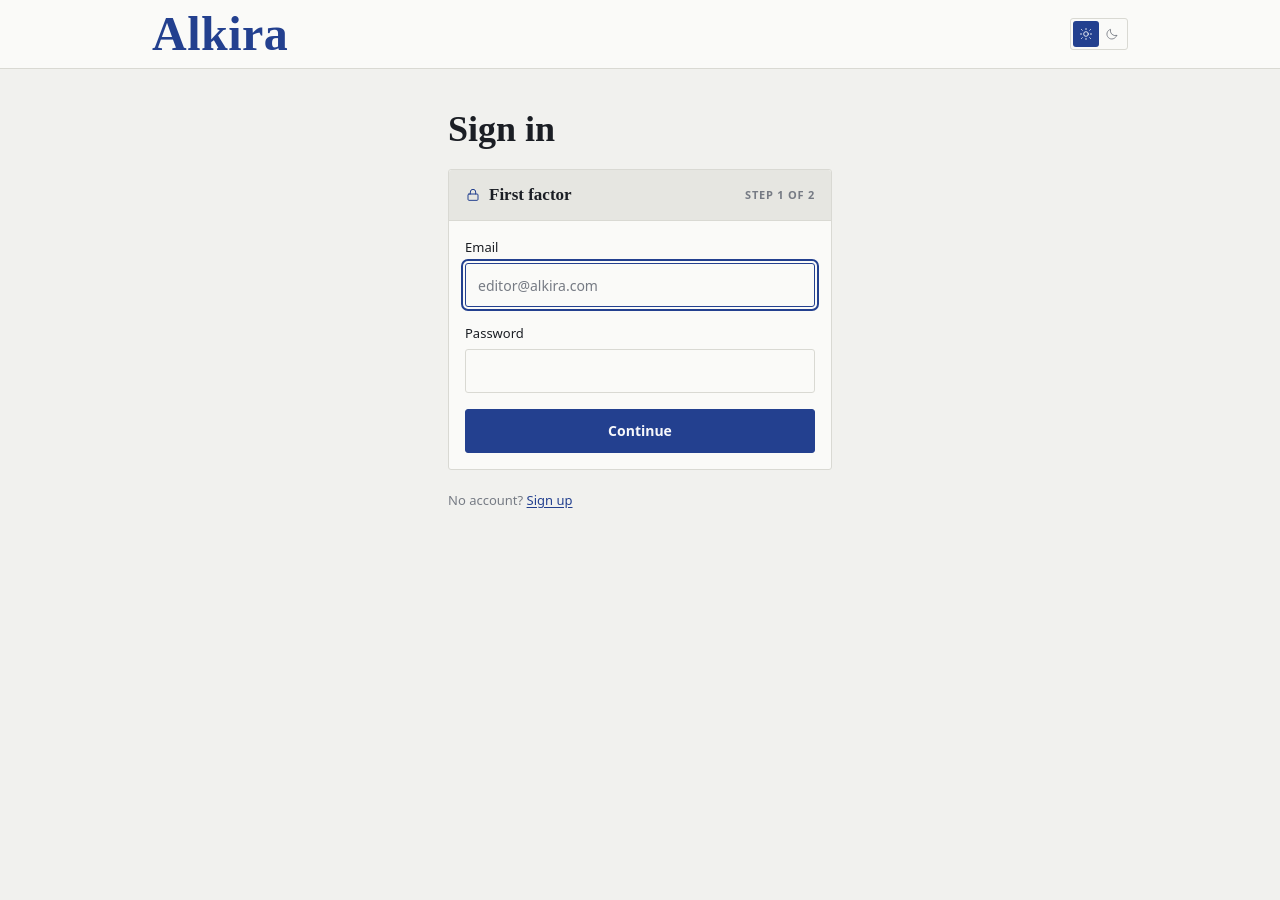
Test: sign up › confirms validation passed without claiming an account was created
Click the link "Sign up". click: (550, 500)
box: [527,491,572,509]
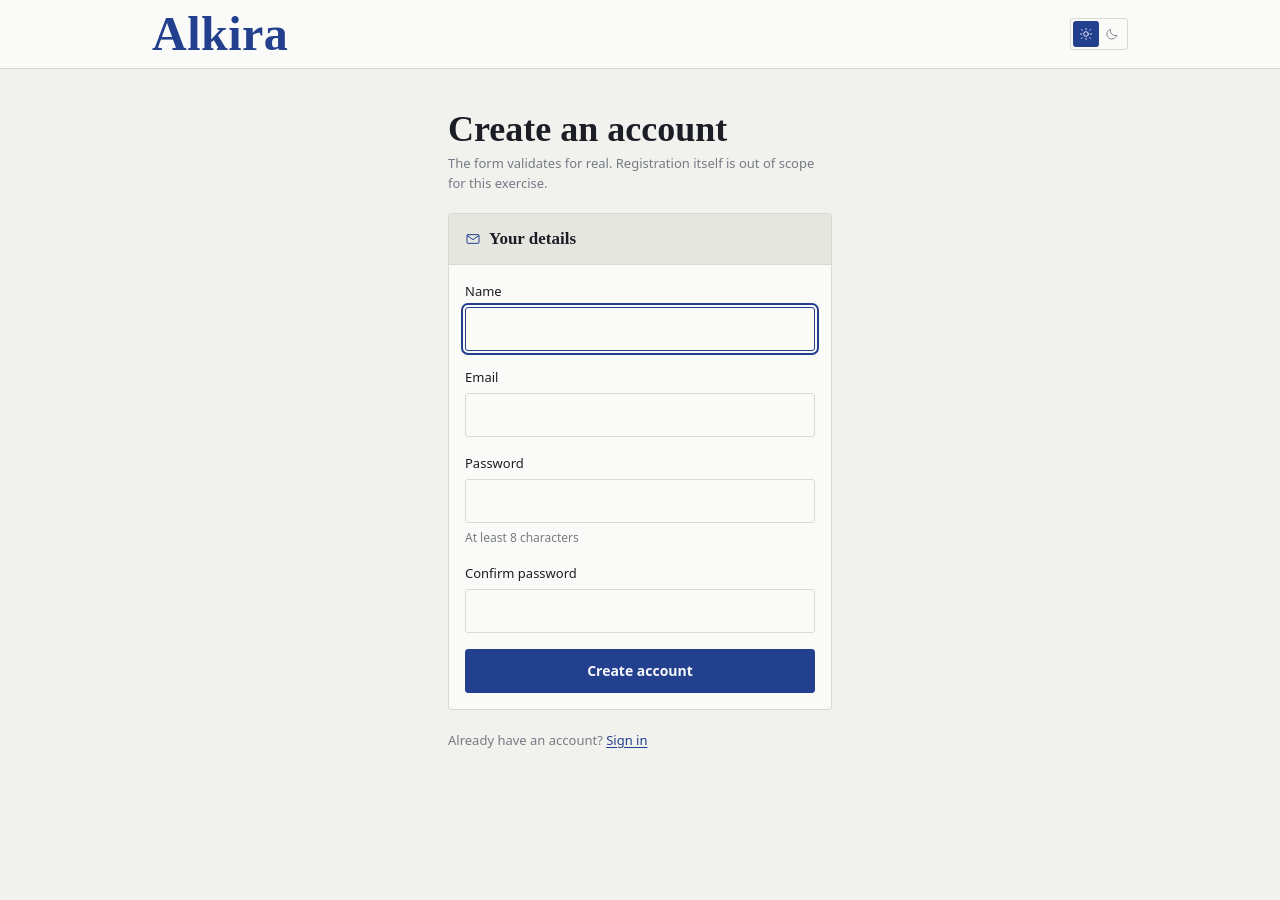
Now the heading "Create an account" is shown, box [448,109,727,149]
Type "Ada Lovelace" into the field labelled "Name". click: (640, 329)
box: [465,307,815,351]
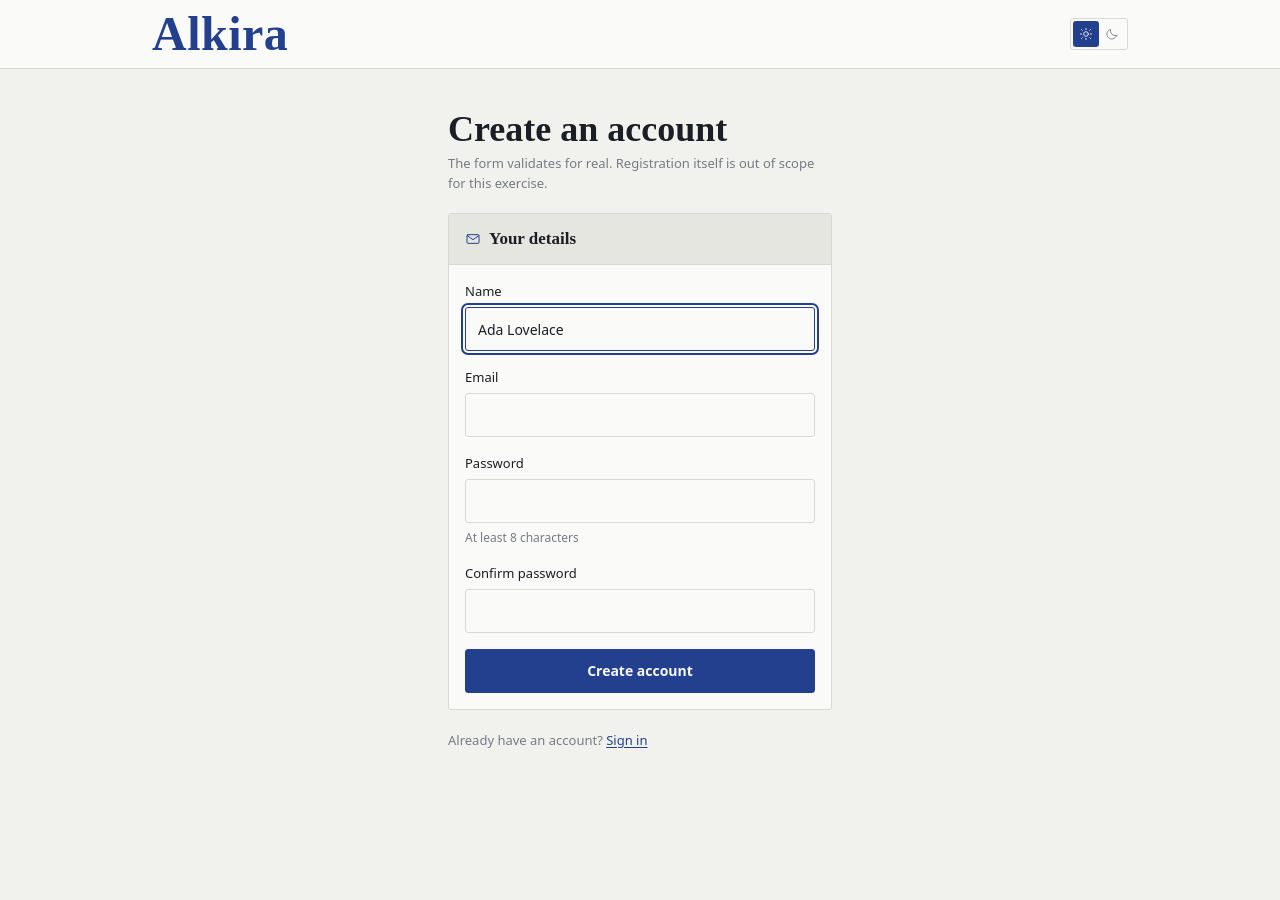
Type "ada@alkira.com" into the field labelled "Email". click: (640, 415)
box: [465,393,815,437]
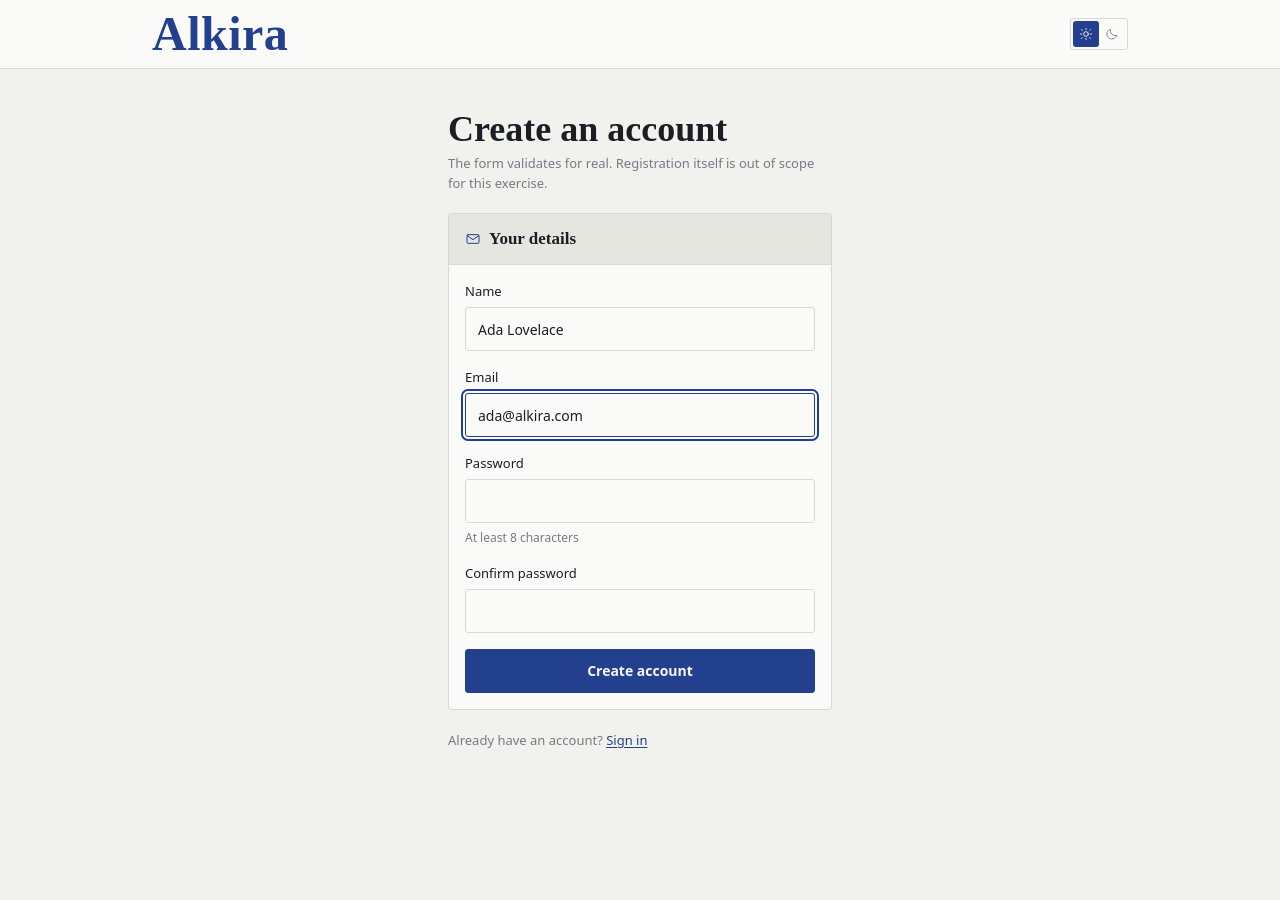
Type "Password123!" into the password field labelled "Password". click: (640, 501)
box: [465,479,815,523]
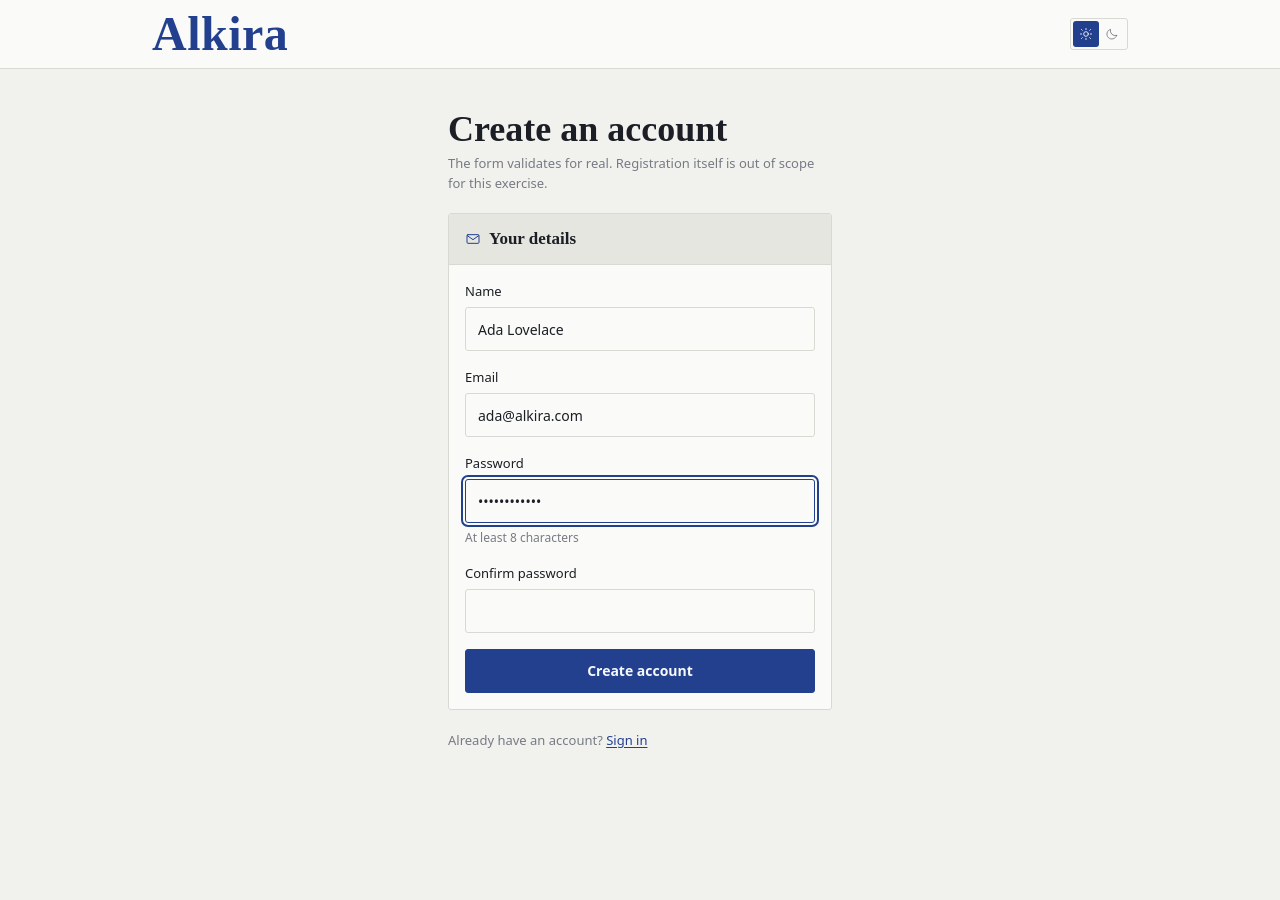
Type "Password123!" into the password field labelled "Confirm password". click: (640, 611)
box: [465,589,815,633]
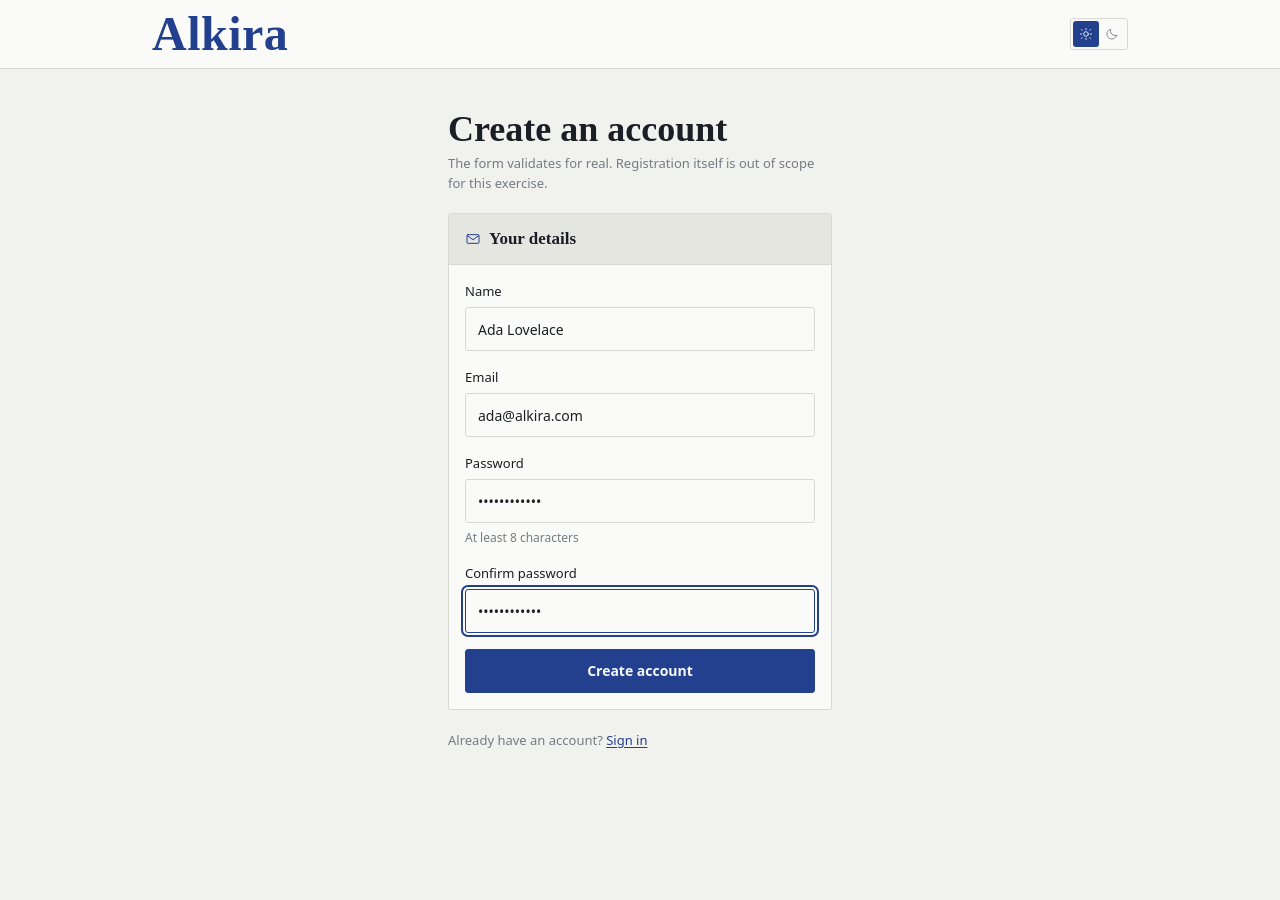
Click the button "Create account". click: (640, 671)
box: [465,649,815,693]
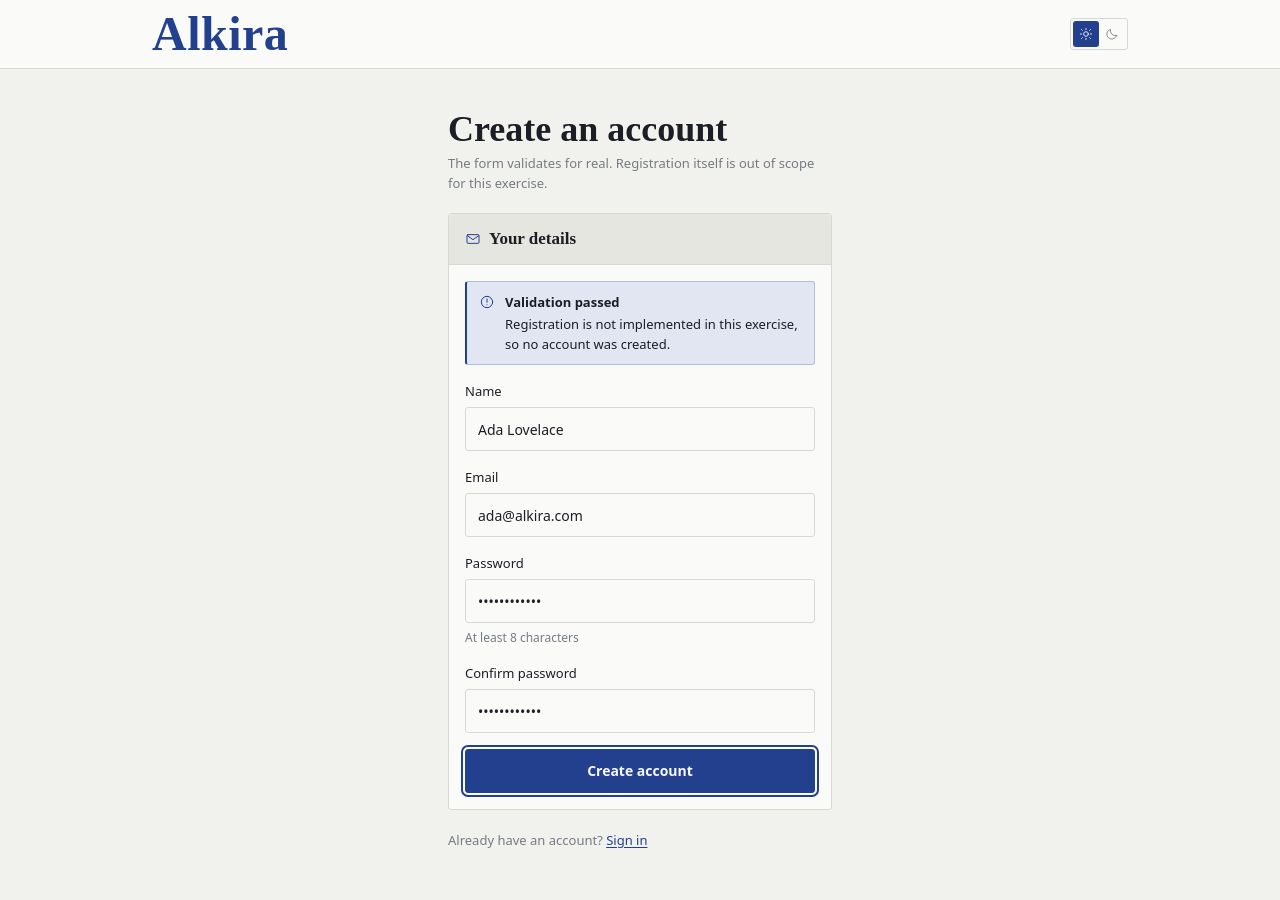
Now the message shows "Validation passed", box [505,293,620,311]
Now the message shows "no account was created", box [505,315,798,353]
